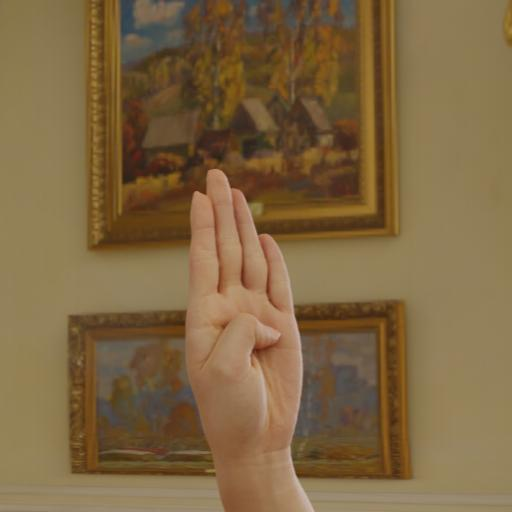B: (173, 163, 311, 472)
